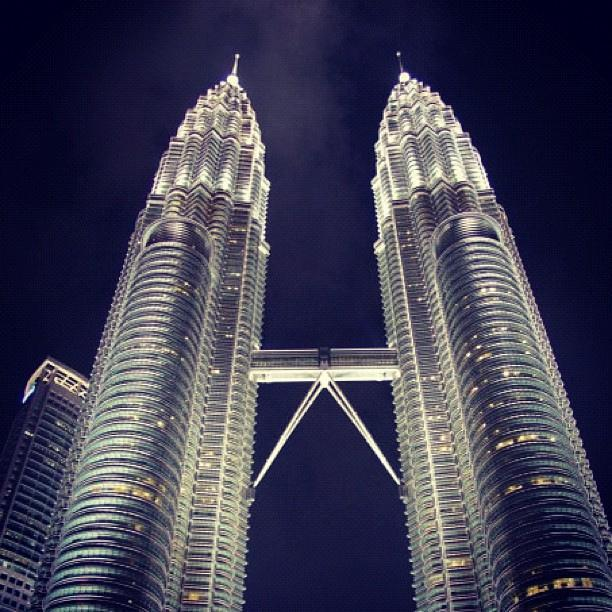affected: (0, 37, 308, 612), (1, 0, 1, 1)
